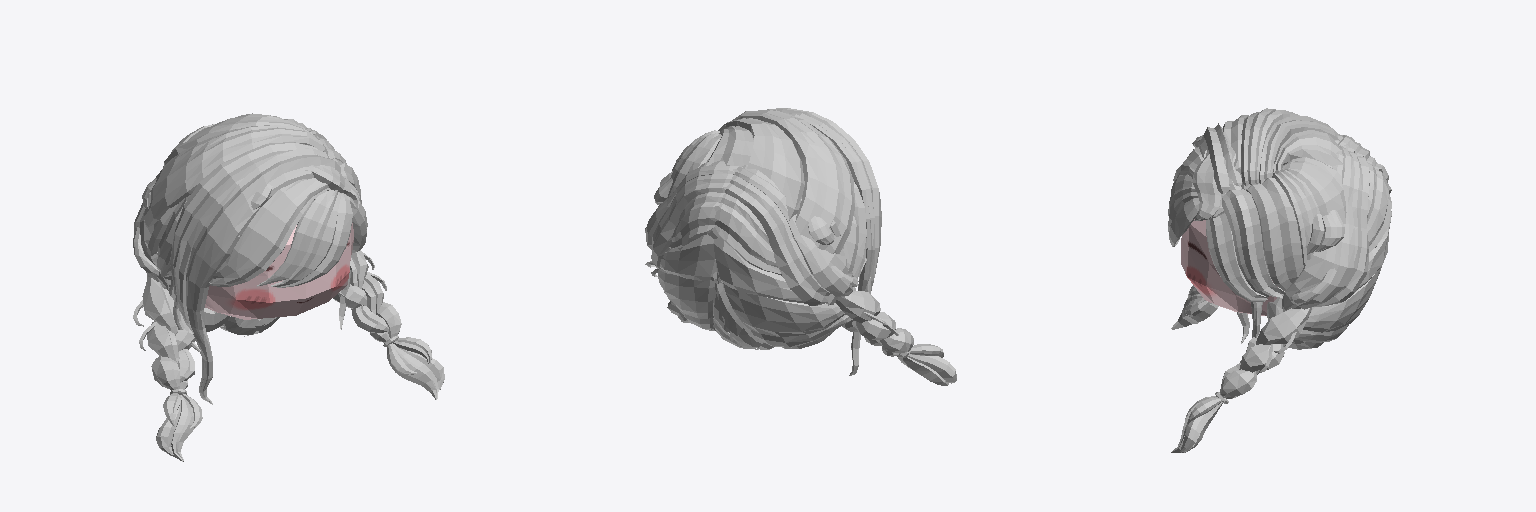
3 renders of one model, left to right at view 1: azimuth 30°, elevation 25°; view 2: azimuth 150°, elevation 25°; view 3: azimuth 270°, elevation 25°, orthographic.
Visible parts, largest first — view 1: 立方体; view 2: 立方体; view 3: 立方体.
Boxes of the visible parts, box(x1,y1,x2,y2) form: 立方体: box(133, 113, 444, 461); 立方体: box(645, 108, 956, 385); 立方体: box(1168, 108, 1391, 452).
Bounding box in the file's own units: 1.16 × 1.05 × 0.7878.
Materials: 2 (1 with a texture image).